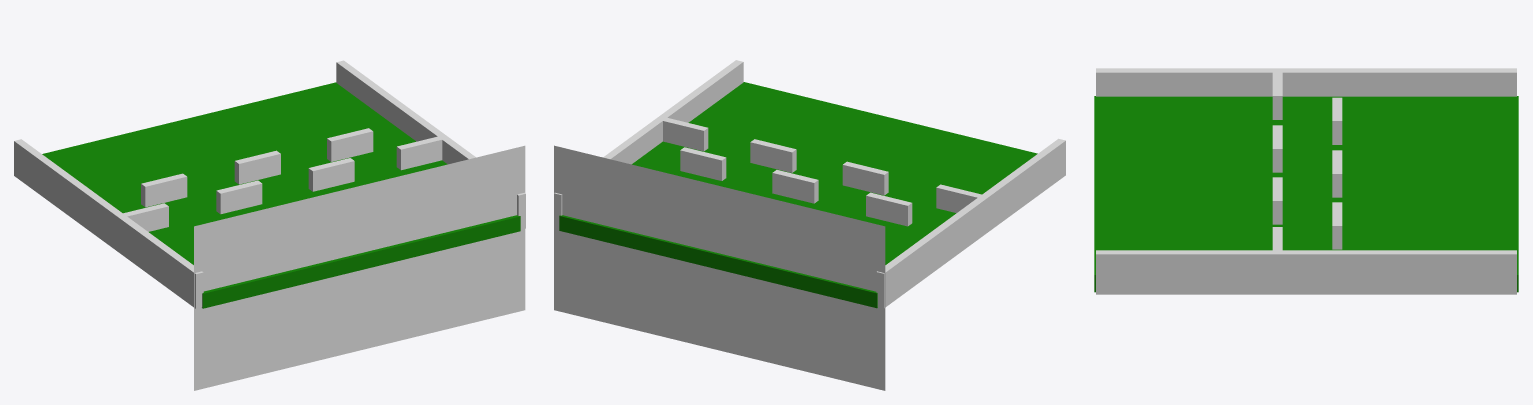
File: walls1.glb
3 views of the same model, side by side, from view 1: azimuth 30°, elevation 25°; view 2: azimuth 150°, elevation 25°; view 3: azimuth 270°, elevation 25° (orthographic). The views are drawn at different scales.
Visible parts, largest first — view 1: obj_snap, Cube, Cube.001, Cube.002, Cube.003, Cube.005, Cube.008, Cube.006, Cube.004, Cube.009, Cube.007; view 2: obj_snap.001, Cube, Cube.001, Cube.002, Cube.003, Cube.006, Cube.005, Cube.004, Cube.008, Cube.009, Cube.007; view 3: Cube, Cube.002, Cube.001, Cube.008, Cube.006, Cube.005, Cube.003, Cube.007, Cube.004.
Boxes of the visible parts, <box> form: obj_snap: <box>194,145,525,390</box>; Cube: <box>42,82,520,308</box>; Cube.001: <box>14,139,203,308</box>; Cube.002: <box>336,60,525,229</box>; Cube.003: <box>234,150,280,184</box>; Cube.005: <box>327,128,373,161</box>; Cube.008: <box>216,180,262,214</box>; Cube.006: <box>308,158,354,191</box>; Cube.004: <box>141,173,187,207</box>; Cube.009: <box>396,136,442,170</box>; Cube.007: <box>123,203,168,231</box>; obj_snap.001: <box>554,145,885,390</box>; Cube: <box>559,82,1037,308</box>; Cube.001: <box>876,138,1065,308</box>; Cube.002: <box>554,60,743,229</box>; Cube.003: <box>772,170,818,203</box>; Cube.006: <box>750,139,796,172</box>; Cube.005: <box>680,147,726,180</box>; Cube.004: <box>866,192,912,226</box>; Cube.008: <box>842,161,888,195</box>; Cube.009: <box>662,117,708,151</box>; Cube.007: <box>936,184,981,212</box>; Cube: <box>1094,96,1518,292</box>; Cube.002: <box>1096,250,1516,294</box>; Cube.001: <box>1096,68,1516,96</box>; Cube.008: <box>1272,125,1282,172</box>; Cube.006: <box>1272,177,1282,224</box>; Cube.005: <box>1332,202,1342,249</box>; Cube.003: <box>1332,150,1342,197</box>; Cube.007: <box>1272,72,1282,119</box>; Cube.004: <box>1332,97,1342,144</box>.
Size of the model in its own units: 4.21 by 2 by 4.04.
